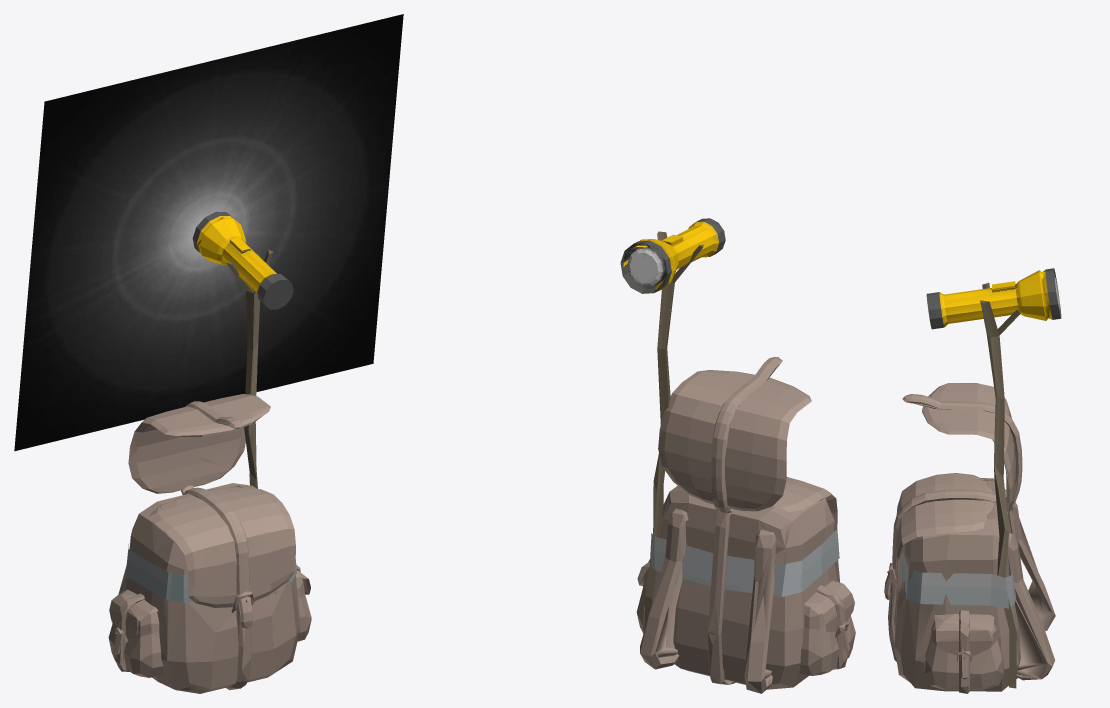
Rendered from item_backpack_with_flashlight.glb.
The picture shows the model from 3 angles, left to right: view 1: azimuth 30°, elevation 25°; view 2: azimuth 150°, elevation 25°; view 3: azimuth 270°, elevation 25°; orthographic projection. The views are drawn at different scales.
Visible parts, largest first — view 1: Quad, Backpack.002 (×2), Backpack, Flashlight_submesh_0, Stick, Cube; view 2: Backpack, Backpack.002 (×2), Cube, Flashlight_submesh_0, Stick, Flashlight_submesh_1; view 3: Backpack, Backpack.002 (×2), Flashlight_submesh_0, Stick, Cube.
Boxes of the visible parts, <box> form: Quad: <box>14,14,403,451</box>; Backpack.002 (×2): <box>128,394,295,628</box>; Backpack: <box>108,483,311,693</box>; Flashlight_submesh_0: <box>192,211,293,309</box>; Stick: <box>226,249,273,488</box>; Cube: <box>125,544,296,602</box>; Backpack: <box>636,485,855,693</box>; Backpack.002 (×2): <box>658,357,837,530</box>; Cube: <box>650,529,839,596</box>; Flashlight_submesh_0: <box>620,218,725,293</box>; Stick: <box>645,231,703,627</box>; Flashlight_submesh_1: <box>627,247,664,286</box>; Backpack: <box>887,478,1055,693</box>; Backpack.002 (×2): <box>884,383,1022,599</box>; Flashlight_submesh_0: <box>926,268,1061,329</box>; Stick: <box>980,282,1020,688</box>; Cube: <box>902,550,1015,608</box>.
Bounding box in the file's own units: 1 × 1.54 × 0.4968.
7 materials, 5 textured.
